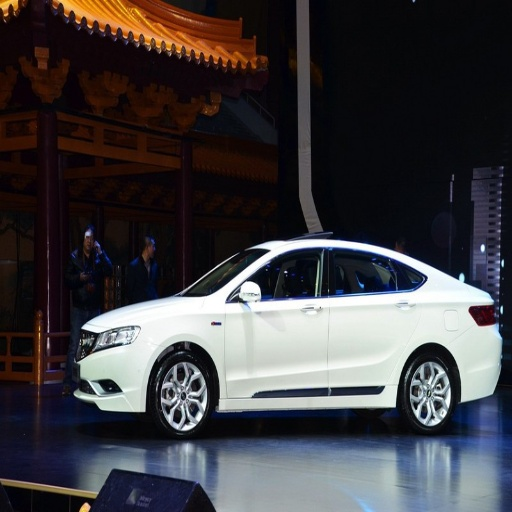back_left_door: (327, 246, 418, 393)
front_bumper: (73, 342, 156, 411)
front_left_door: (228, 246, 328, 396)
